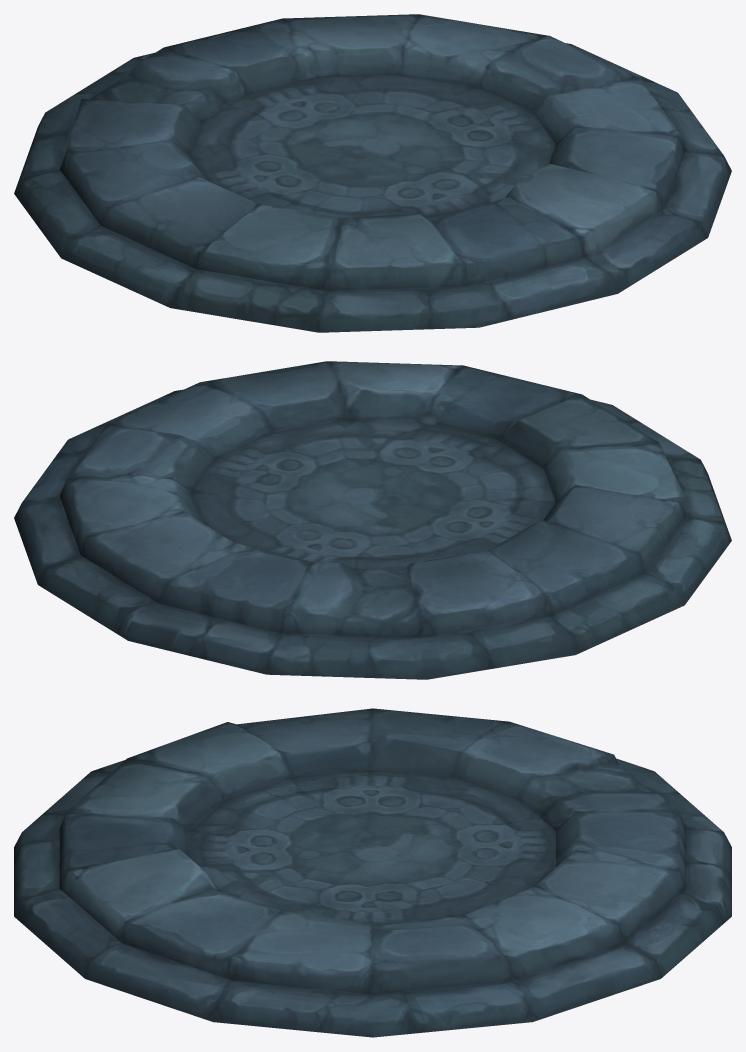
The model's file is tas_yuvarlak_zemin.fbx.
The picture shows the model from 3 angles, top to bottom: view 1: azimuth 30°, elevation 25°; view 2: azimuth 150°, elevation 25°; view 3: azimuth 270°, elevation 25°; orthographic projection. The views are drawn at different scales.
Parts seen in each view (by area): view 1: plinth_circular_01; view 2: plinth_circular_01; view 3: plinth_circular_01.
Part boxes in pixels (x1=…): plinth_circular_01: x1=14, y1=14, x2=731, y2=332; plinth_circular_01: x1=14, y1=361, x2=731, y2=679; plinth_circular_01: x1=14, y1=708, x2=731, y2=1037.
Bounding box in the file's own units: 191 × 16.49 × 186.
1 material, 1 textured.
